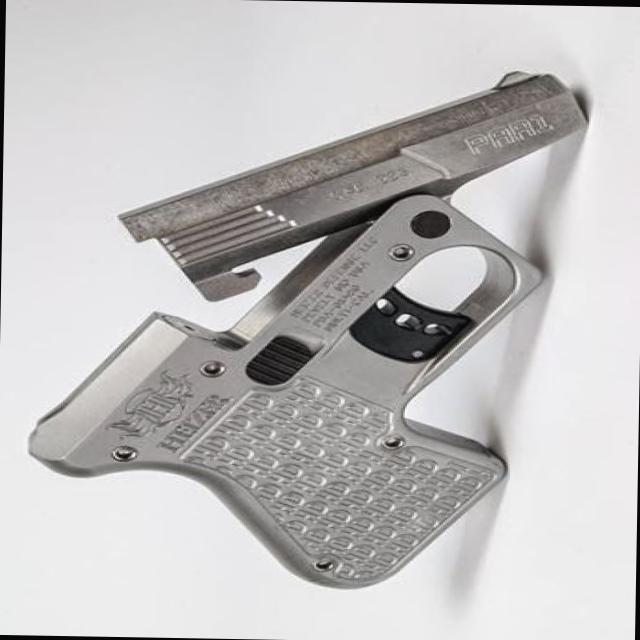handgun: (21, 50, 586, 596)
